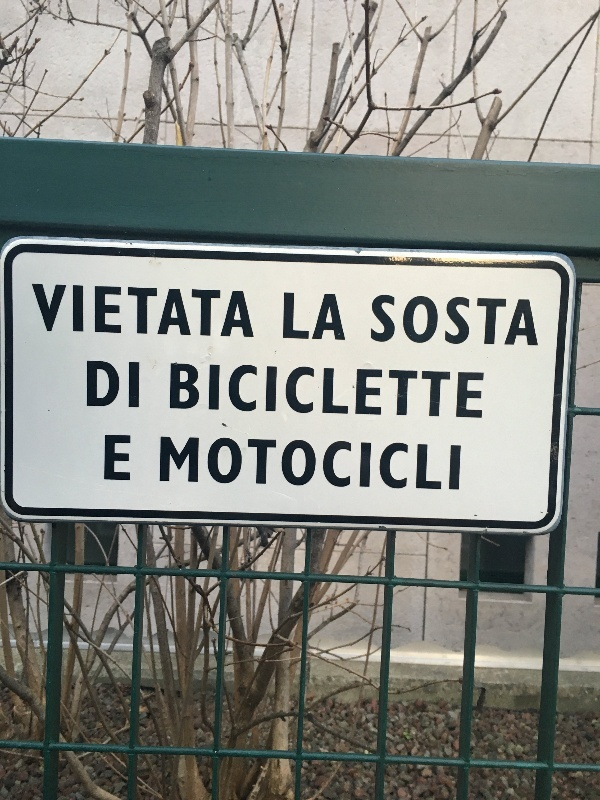text: (177, 363, 192, 424), (193, 363, 208, 424), (209, 363, 224, 424), (225, 363, 240, 424), (241, 363, 256, 424), (257, 363, 272, 424), (273, 363, 288, 424), (289, 363, 304, 424), (305, 363, 320, 424), (321, 363, 336, 424), (337, 363, 352, 424), (353, 363, 368, 424), (369, 363, 384, 424), (385, 363, 400, 424), (401, 363, 416, 424), (417, 363, 432, 424), (433, 363, 448, 424), (449, 363, 464, 424), (465, 363, 480, 424), (385, 291, 400, 349), (401, 291, 416, 349), (417, 291, 432, 349), (433, 291, 448, 349), (449, 291, 464, 349), (465, 291, 480, 349), (481, 291, 496, 349), (497, 291, 512, 349), (513, 291, 528, 349), (161, 436, 176, 494), (177, 436, 192, 494), (193, 436, 208, 494), (209, 436, 224, 494), (225, 436, 240, 494), (241, 436, 256, 494), (257, 436, 272, 494), (273, 436, 288, 494), (289, 436, 304, 494), (305, 436, 320, 494), (321, 436, 336, 494), (337, 436, 352, 494), (353, 436, 368, 494), (369, 436, 384, 494), (385, 436, 400, 494), (401, 436, 416, 494), (417, 436, 432, 494), (433, 436, 448, 494), (33, 285, 48, 341), (49, 285, 64, 341), (65, 285, 80, 341), (81, 285, 96, 341), (97, 285, 112, 341), (113, 285, 128, 341), (129, 285, 144, 341), (145, 285, 160, 341), (161, 285, 176, 341), (177, 285, 192, 341), (193, 285, 208, 341), (209, 285, 224, 341), (225, 285, 240, 341), (241, 285, 256, 341), (449, 436, 463, 494), (289, 291, 304, 342), (305, 291, 320, 342), (321, 291, 336, 342), (97, 359, 112, 410), (113, 359, 128, 410), (529, 291, 542, 349), (113, 434, 128, 482), (373, 291, 384, 349), (129, 359, 140, 410), (86, 359, 96, 410), (337, 291, 346, 342), (103, 434, 112, 482), (171, 363, 176, 424), (481, 363, 486, 424), (284, 291, 288, 342), (29, 285, 32, 341), (129, 434, 131, 482)
